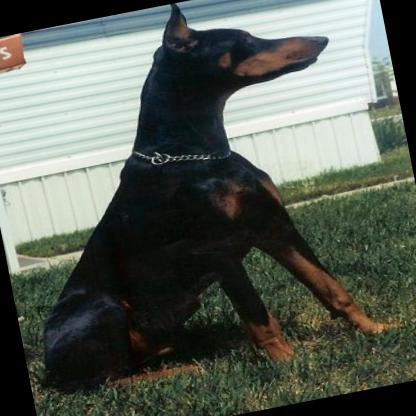Doberman: (0, 0, 408, 403)
